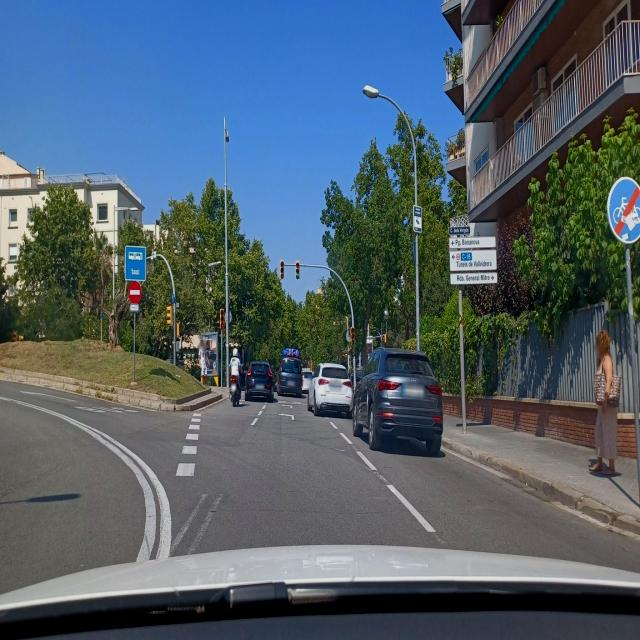bike: (230, 375, 242, 406)
car: (352, 346, 444, 455), (307, 362, 354, 418), (245, 360, 274, 402), (279, 347, 303, 397), (302, 367, 314, 394)
